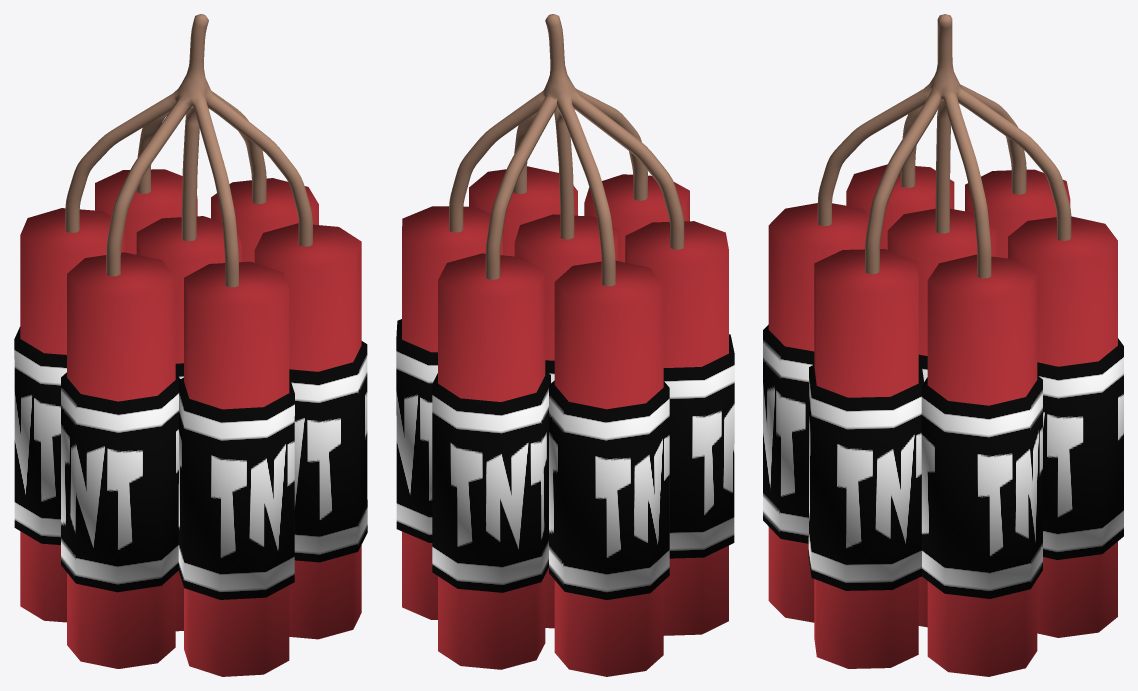
The model's file is ShortFuseTNTbundle.fbx.
3 views of the same model, side by side, from view 1: azimuth 30°, elevation 25°; view 2: azimuth 150°, elevation 25°; view 3: azimuth 270°, elevation 25° (orthographic).
Parts seen in each view (by area): view 1: TNTbundle.001; view 2: TNTbundle.001; view 3: TNTbundle.001.
Part boxes in pixels (left/top/right/bottom): TNTbundle.001: left=14, top=14, right=367, bottom=676; TNTbundle.001: left=396, top=14, right=734, bottom=676; TNTbundle.001: left=763, top=14, right=1123, bottom=676.
Size of the model in its own units: 60.47 by 64.94 by 119.
Materials: 1 (1 with a texture image).
